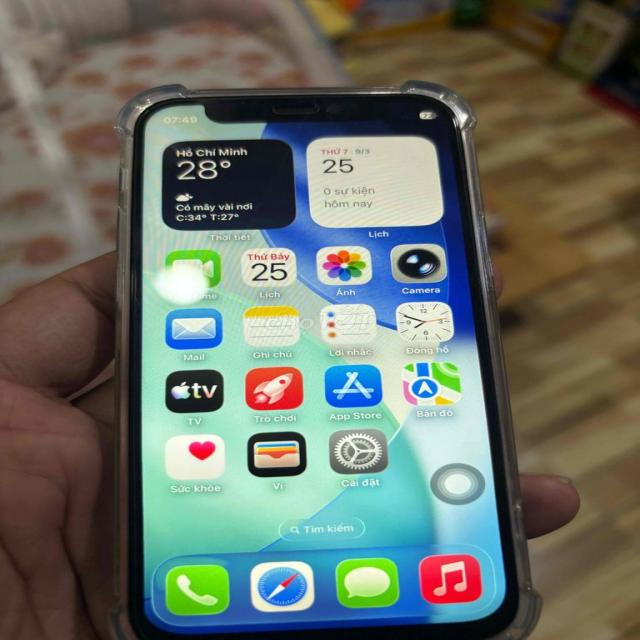gen_12_13: (114, 76, 534, 640)
